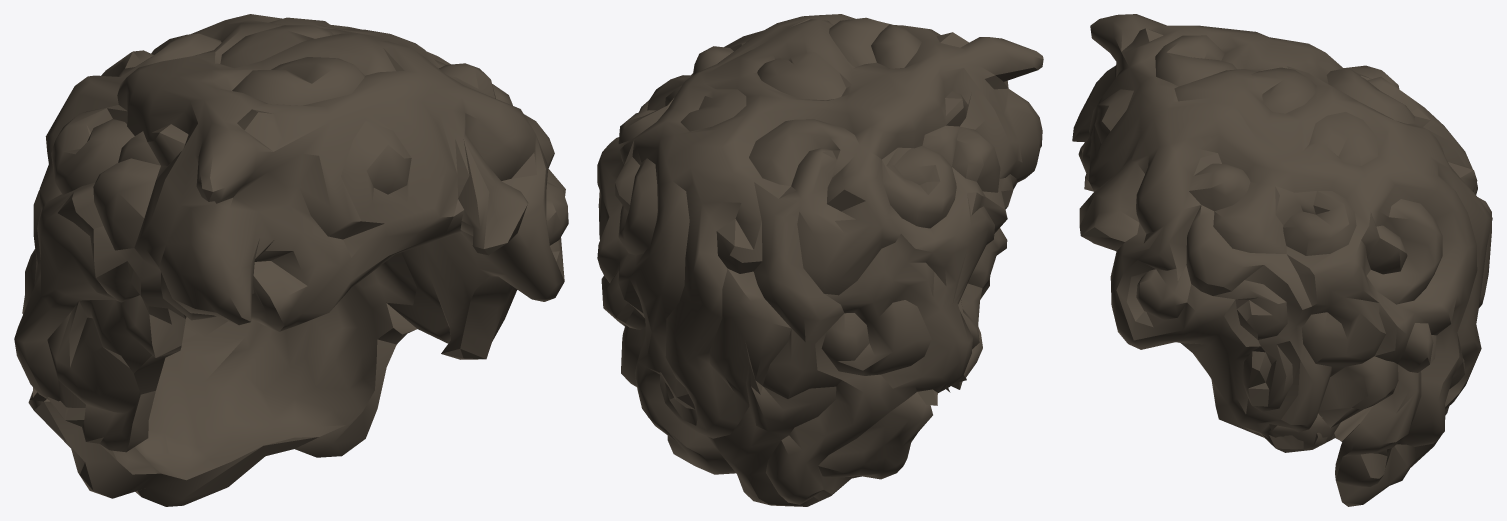
File: AlexsHair.fbx
3 views of the same model, side by side, from view 1: azimuth 30°, elevation 25°; view 2: azimuth 150°, elevation 25°; view 3: azimuth 270°, elevation 25° (orthographic). The views are drawn at different scales.
Parts seen in each view (by area): view 1: Alex; view 2: Alex; view 3: Alex.
Part boxes in pixels (box(x1,y1,x2,y2)): Alex: box(14, 14, 568, 506); Alex: box(597, 14, 1043, 506); Alex: box(1072, 14, 1492, 506).
Bounding box in the file's own units: 191 × 199 × 180.
